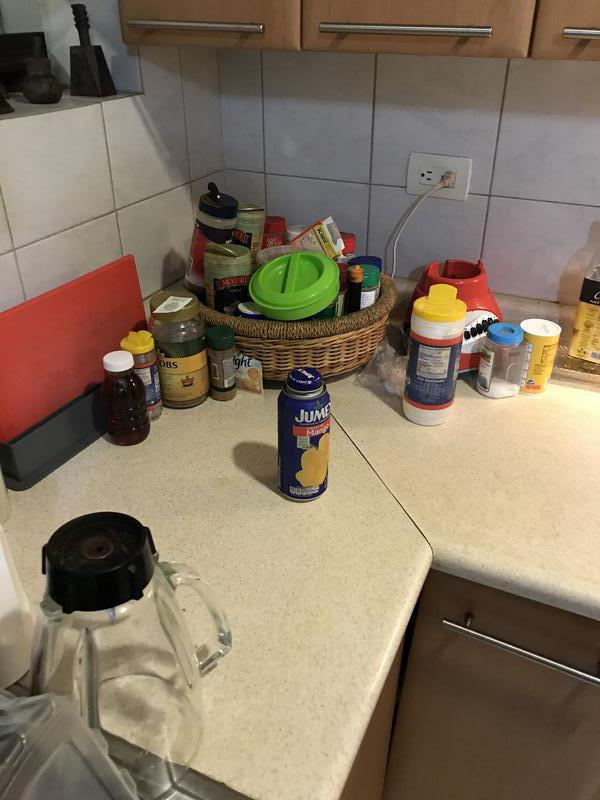jugo_jumex: (274, 368, 336, 503)
